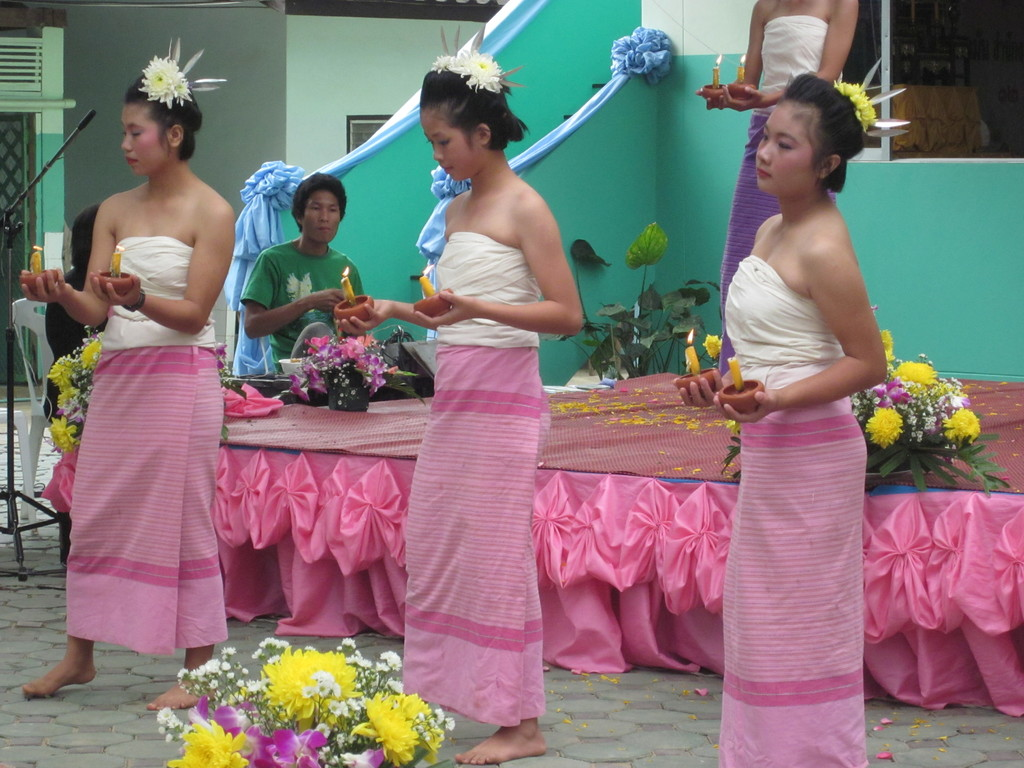Person: (19, 0, 886, 765)
